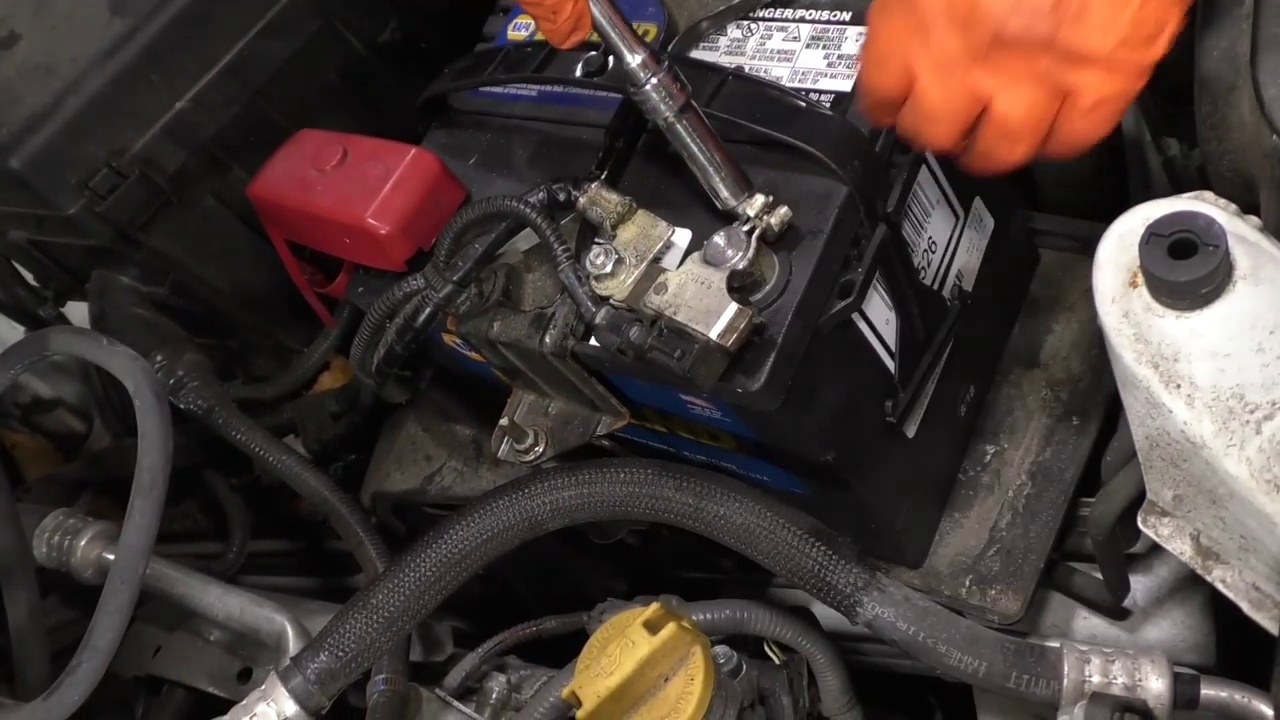battery: (343, 1, 928, 386)
neg_connected: (647, 197, 804, 358)
pos_connected: (236, 116, 470, 315)
